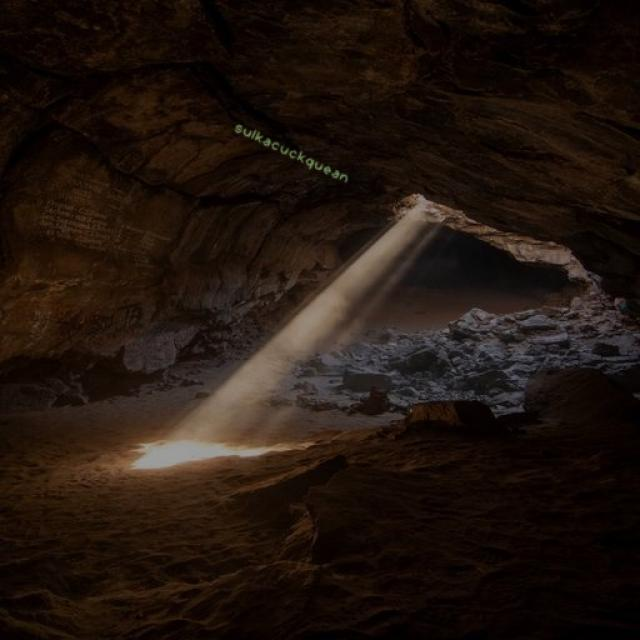watermark: (228, 119, 356, 185)
